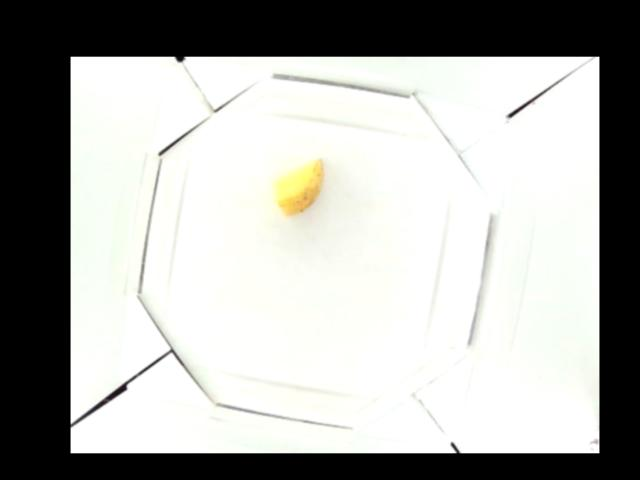Potato: (269, 156, 324, 216)
